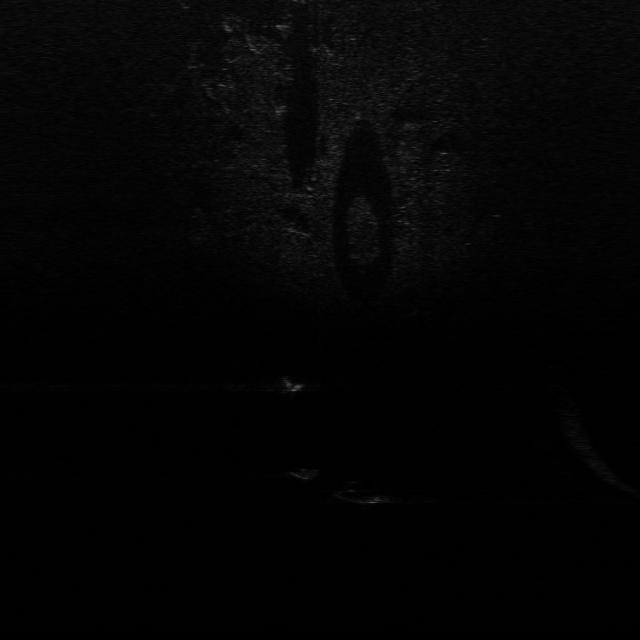cube: (286, 466, 323, 484)
square cage: (276, 372, 306, 396)
tyre: (330, 478, 400, 506)
